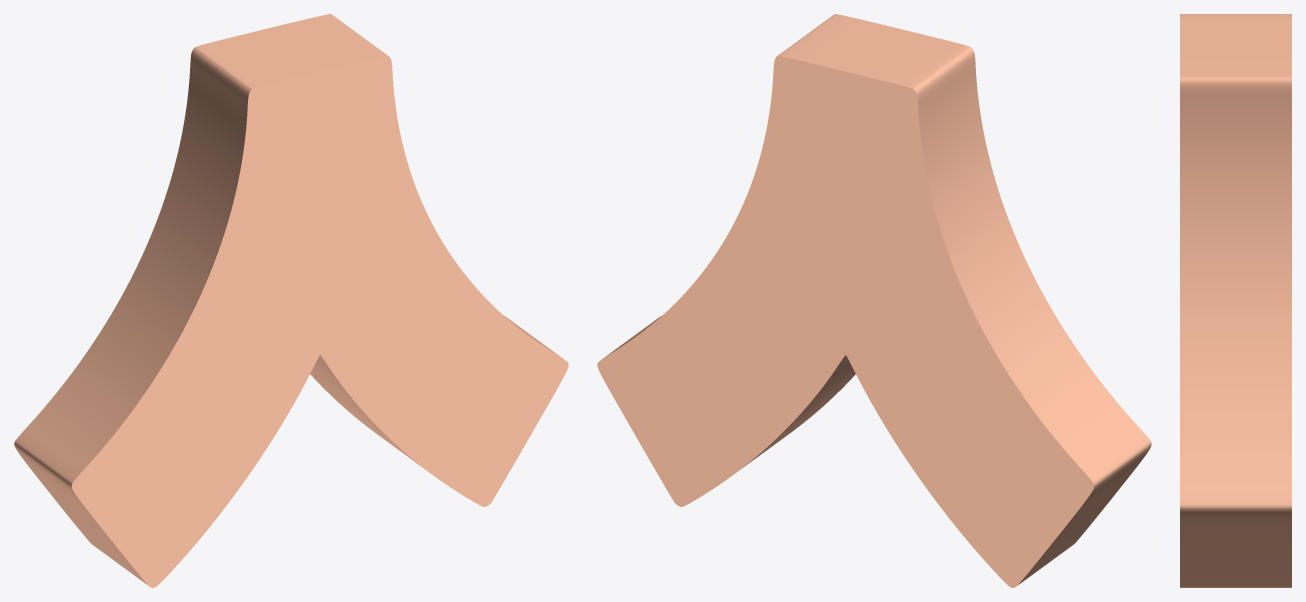
The picture shows the model from 3 angles, left to right: view 1: azimuth 30°, elevation 25°; view 2: azimuth 150°, elevation 25°; view 3: azimuth 270°, elevation 25°; orthographic projection. The views are drawn at different scales.
Parts seen in each view (by area): view 1: imagetostl_mesh1, imagetostl_mesh0; view 2: imagetostl_mesh1, imagetostl_mesh0; view 3: imagetostl_mesh0.
Part boxes in pixels (bbox=[...]): imagetostl_mesh1: bbox=[71, 56, 568, 587]; imagetostl_mesh0: bbox=[14, 14, 562, 584]; imagetostl_mesh1: bbox=[597, 56, 1094, 587]; imagetostl_mesh0: bbox=[603, 14, 1151, 584]; imagetostl_mesh0: bbox=[1180, 14, 1291, 587].
Size of the model in its own units: 100 by 91.48 by 20.
